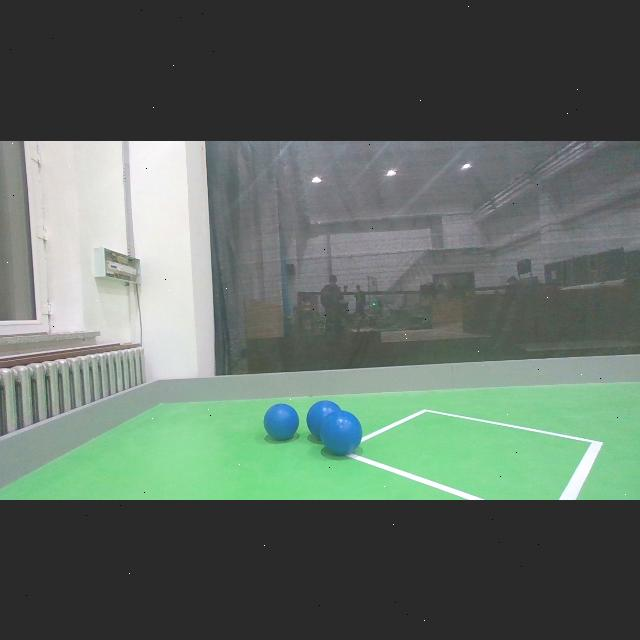B: (320, 410, 362, 456), (263, 403, 299, 441), (308, 402, 344, 436)
